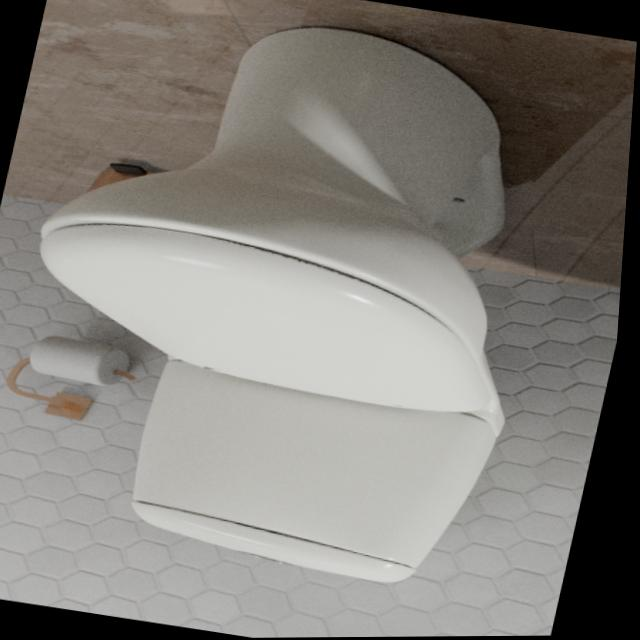toilet: (0, 0, 589, 601)
